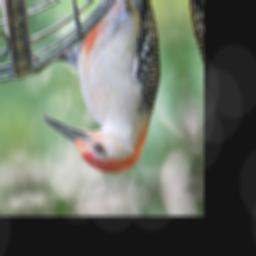Woodpecker: (20, 0, 183, 183)
